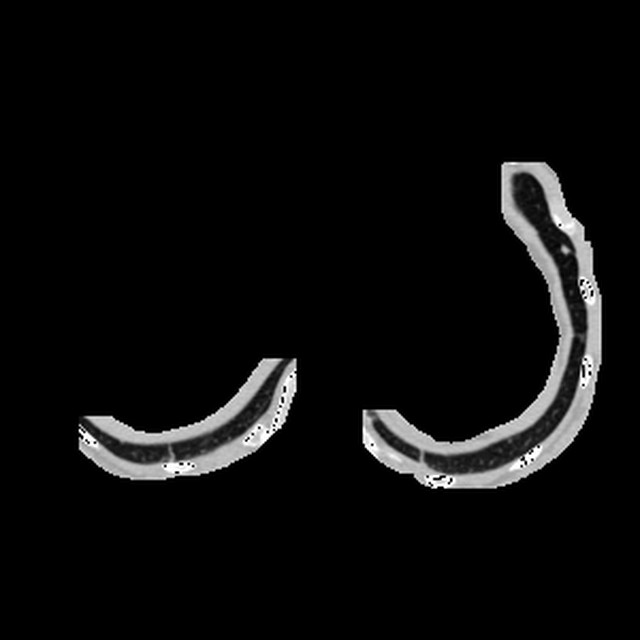PN: (559, 241, 572, 254)
